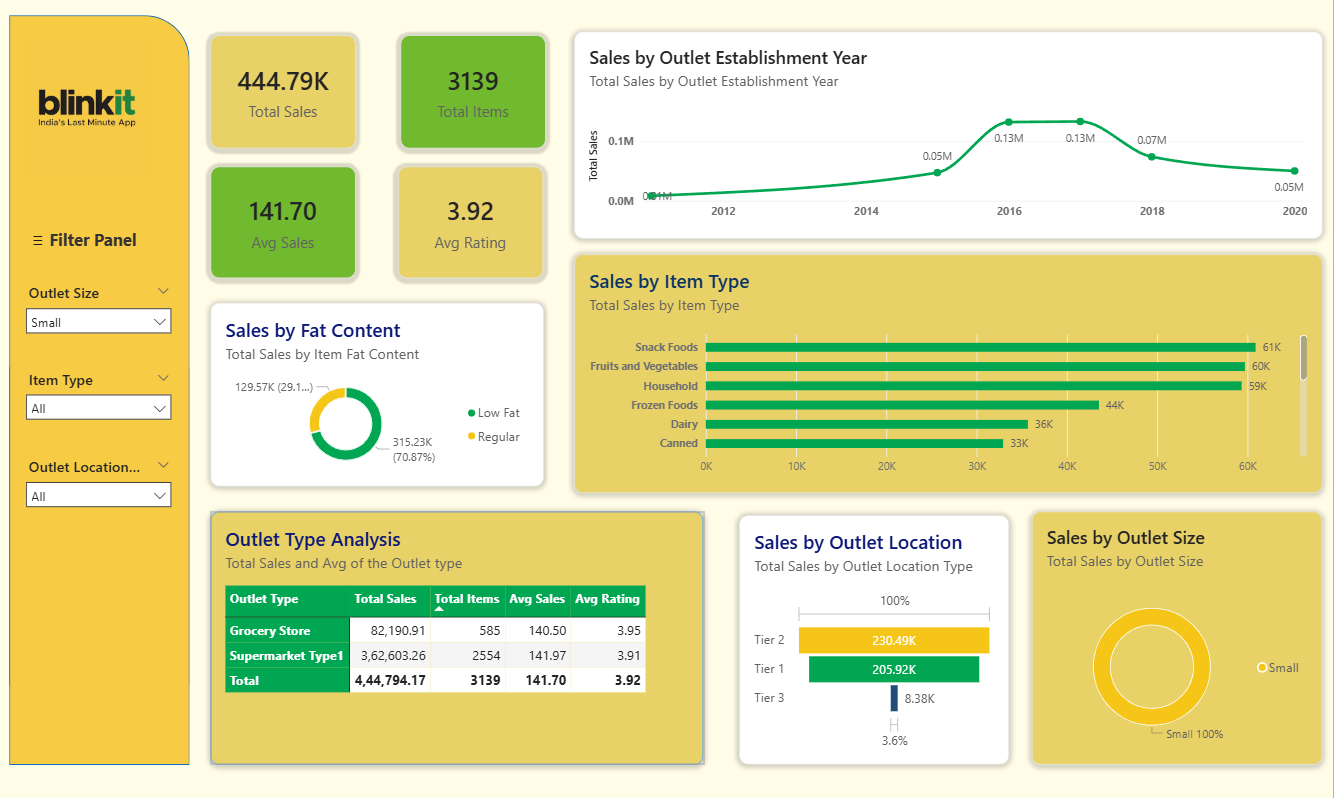

This screenshot's page, from the dashboard's own definition file:
{"tool":"powerbi","page":{"name":"Page 1","canvas":[1500,900],"ordinal":0},"visuals":[{"type":"card","fields":{"Values":["Key Measures.Total Sales"]},"box":[239,41.2,163.2,126.9],"z":0},{"type":"card","fields":{"Values":["Key Measures.Avg Sales"]},"box":[239,187.9,163.2,125.3],"z":1000},{"type":"card","fields":{"Values":["Key Measures.Avg Rating"]},"box":[450,187.9,163.2,125.3],"z":2000},{"type":"card","fields":{"Values":["Key Measures.Total Items"]},"box":[451.6,41.2,163.2,126.9],"z":3000},{"type":"donutChart","title":" Sales by Fat Content","fields":{"Category":["BlinkIT-Grocery-Data.Item Fat Content"],"Y":["Key Measures.Total Sales"]},"box":[239,341.2,374.2,206],"z":4000},{"type":"clusteredBarChart","title":"Sales by Item Type","fields":{"Category":["BlinkIT-Grocery-Data.Item Type"],"Y":["Key Measures.Total Sales"]},"box":[647.8,286.8,840.7,268.7],"z":5000},{"type":"donutChart","title":"Sales by Outlet Size","fields":{"Category":["BlinkIT-Grocery-Data.Outlet Size"],"Y":["Key Measures.Total Sales"]},"box":[1162.1,575.3,326.4,285.2],"z":6000},{"type":"lineChart","title":"Sales by Outlet Establishment Year","fields":{"Category":["BlinkIT-Grocery-Data.Outlet Establishment Year"],"Y":["Key Measures.Total Sales"]},"box":[647.8,36.3,840.7,232.4],"z":7000},{"type":"pivotTable","title":"Outlet Type Analysis","fields":{"Rows":["BlinkIT-Grocery-Data.Outlet Type"],"Values":["Key Measures.Total Sales","Key Measures.Total Items","Key Measures.Avg Sales","Key Measures.Avg Rating"]},"box":[239,575.3,553.8,285.2],"z":8000},{"type":"funnel","title":" Sales by Outlet Location","fields":{"Category":["BlinkIT-Grocery-Data.Outlet Location Type"],"Y":["Key Measures.Total Sales"]},"box":[832.4,580.2,303.3,280.2],"z":12000},{"type":"shape","box":[13.2,18.1,202.7,842.3],"z":12750},{"type":"slicer","fields":{"Values":["BlinkIT-Grocery-Data.Outlet Location Type"]},"box":[26.4,514.3,173.1,65.9],"z":12812},{"type":"slicer","fields":{"Values":["BlinkIT-Grocery-Data.Outlet Size"]},"box":[26.4,318.1,173.1,64.3],"z":12875},{"type":"slicer","fields":{"Values":["BlinkIT-Grocery-Data.Item Type"]},"box":[26.4,415.4,173.1,67.6],"z":13000},{"type":"textbox","box":[25.9,251.2,160.1,35.7],"z":15500},{"type":"image","box":[25.6,42,148.6,161.9],"z":16501}]}

Visuals, with their boxes in screenshot pixels (x1, y1, x2, y2), scaled from the page's 1500x900 canvas onto the 1335x798 screenshot:
card - Key Measures.Total Sales: left=213, top=37, right=358, bottom=149
card - Key Measures.Avg Sales: left=213, top=167, right=358, bottom=278
card - Key Measures.Avg Rating: left=400, top=167, right=546, bottom=278
card - Key Measures.Total Items: left=402, top=37, right=547, bottom=149
" Sales by Fat Content" donutChart: left=213, top=303, right=546, bottom=485
"Sales by Item Type" clusteredBarChart: left=577, top=254, right=1325, bottom=493
"Sales by Outlet Size" donutChart: left=1034, top=510, right=1325, bottom=763
"Sales by Outlet Establishment Year" lineChart: left=577, top=32, right=1325, bottom=238
"Outlet Type Analysis" pivotTable: left=213, top=510, right=706, bottom=763
" Sales by Outlet Location" funnel: left=741, top=514, right=1011, bottom=763
shape: left=12, top=16, right=192, bottom=763
slicer - BlinkIT-Grocery-Data.Outlet Location Type: left=23, top=456, right=178, bottom=514
slicer - BlinkIT-Grocery-Data.Outlet Size: left=23, top=282, right=178, bottom=339
slicer - BlinkIT-Grocery-Data.Item Type: left=23, top=368, right=178, bottom=428
textbox: left=23, top=223, right=166, bottom=254
image: left=23, top=37, right=155, bottom=181
